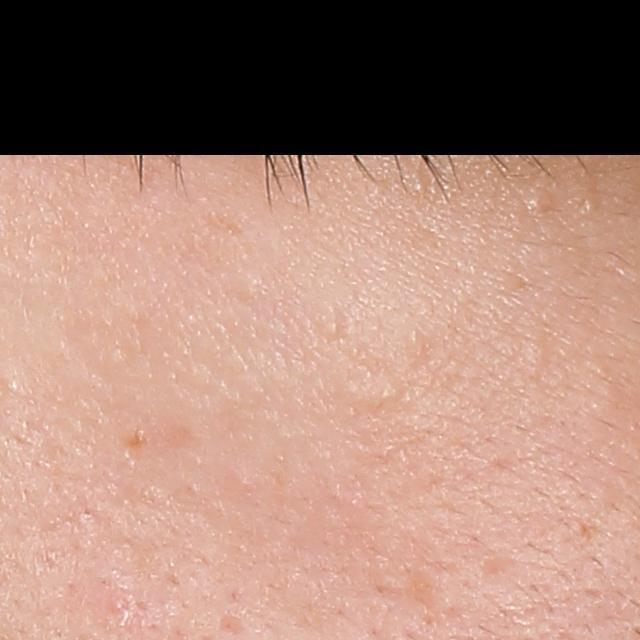comedo: (527, 190, 551, 211)
